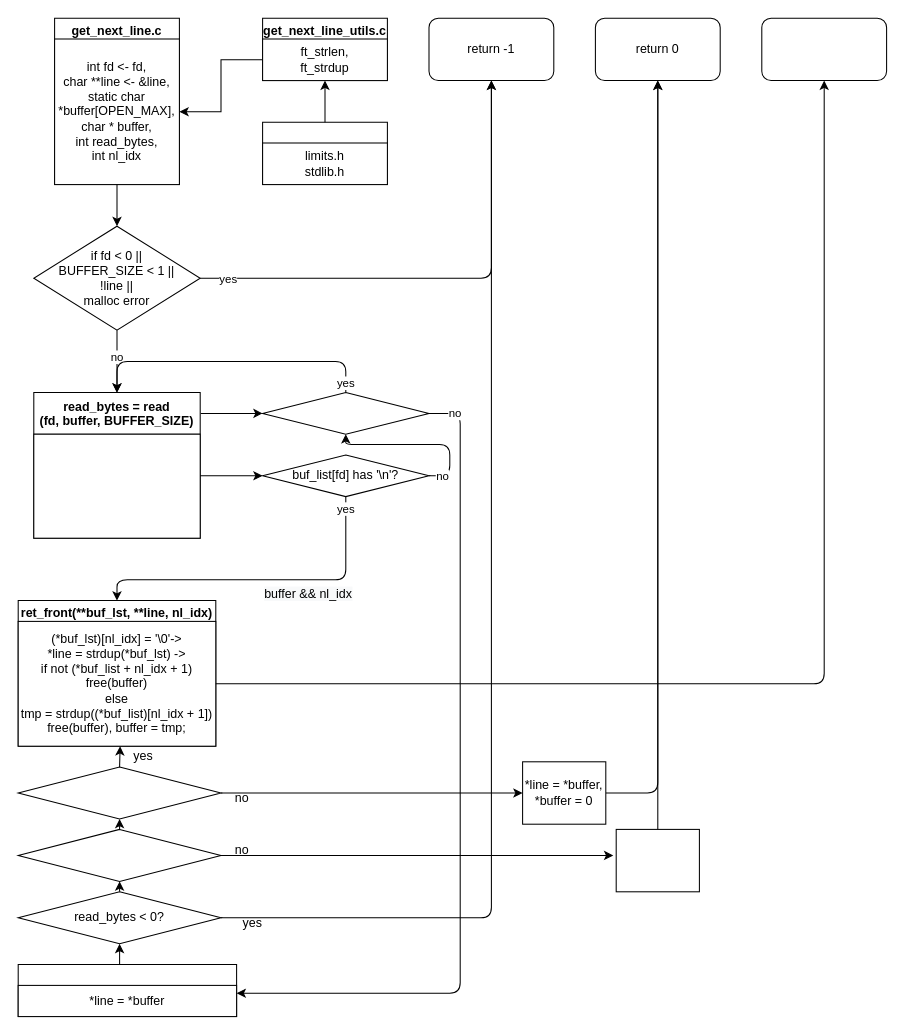
The diagram is 905 pixels wide and 1035 high, and some of its shapes have lost their labels. The box of each missing label's shape, as (x1, y1, x2, y2) in pixels:
*line = strdup(""): (615, 828, 699, 892)
buffer[read_bytes] = '\0', buf_list[fd] = strjoin(buf_list[fd], buffer): (33, 433, 200, 538)
exist '\n'?: (17, 766, 221, 819)
exist buffer?: (17, 828, 221, 881)
get_next_line.h: (262, 121, 387, 185)
read_bytes > 0?: (262, 392, 429, 434)
ret_all(**buf_lst, **line, readbytes): (17, 964, 237, 1017)
return 1: (761, 17, 887, 81)
